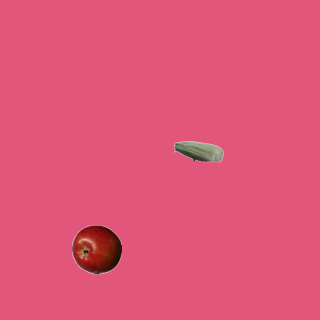Apple Braeburn: (71, 224, 121, 274)
Corn Husk: (173, 126, 223, 176)
